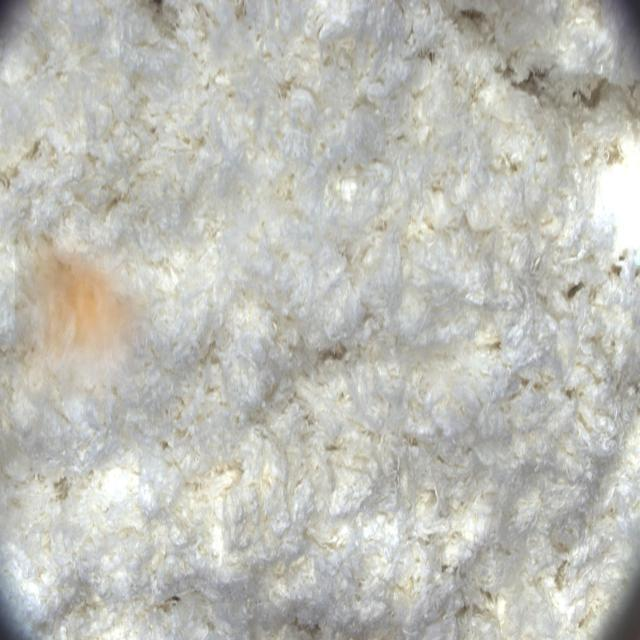dust: (15, 229, 151, 399)
